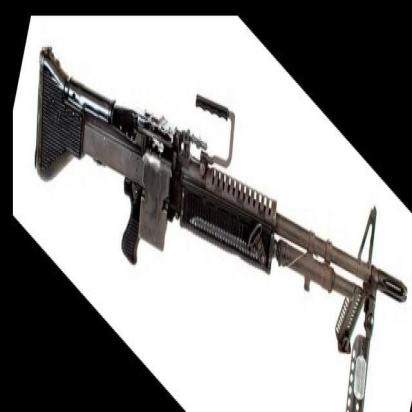Gun: (33, 42, 408, 412)
